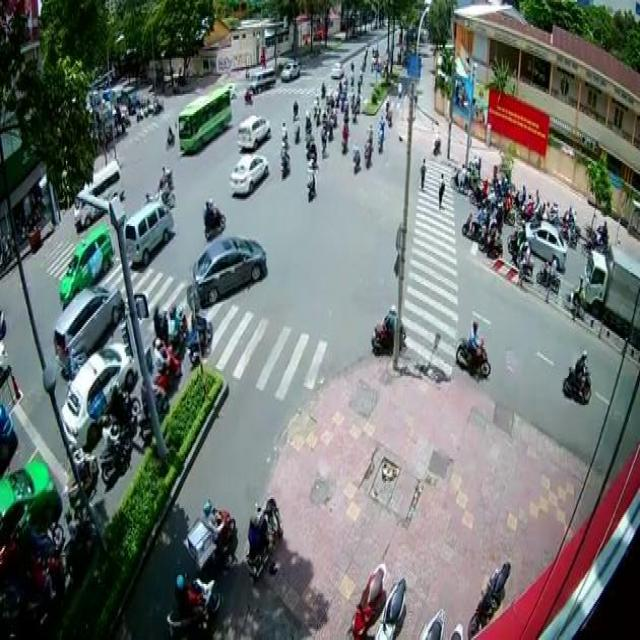bus: (178, 85, 232, 157)
car: (60, 342, 137, 448), (51, 282, 123, 376), (191, 233, 267, 311), (0, 457, 57, 548), (57, 222, 112, 300), (522, 217, 566, 269), (230, 150, 268, 197), (237, 114, 271, 150)
motorcycle: (164, 571, 220, 640), (188, 497, 237, 573), (244, 494, 282, 576), (63, 439, 98, 508), (98, 412, 132, 483), (455, 318, 489, 380), (369, 304, 406, 356), (150, 335, 181, 394), (562, 345, 591, 405), (106, 378, 140, 425), (459, 195, 486, 244), (534, 251, 559, 295), (202, 197, 226, 242), (509, 238, 534, 278), (449, 161, 467, 195), (278, 139, 290, 177)
truck: (580, 244, 631, 336), (73, 157, 122, 230), (123, 199, 174, 266)
